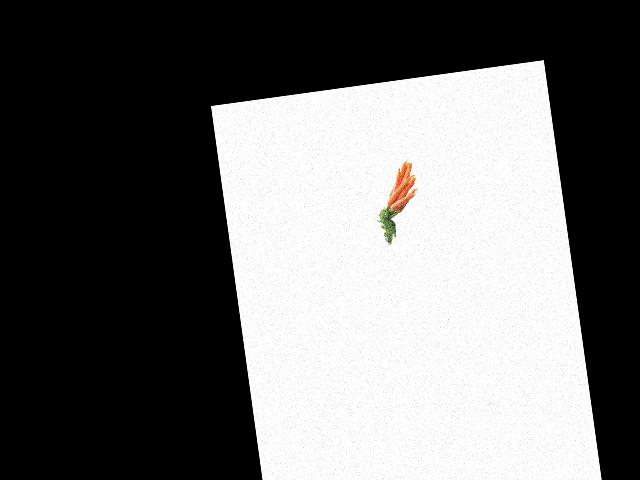carrot: (391, 193, 428, 214)
